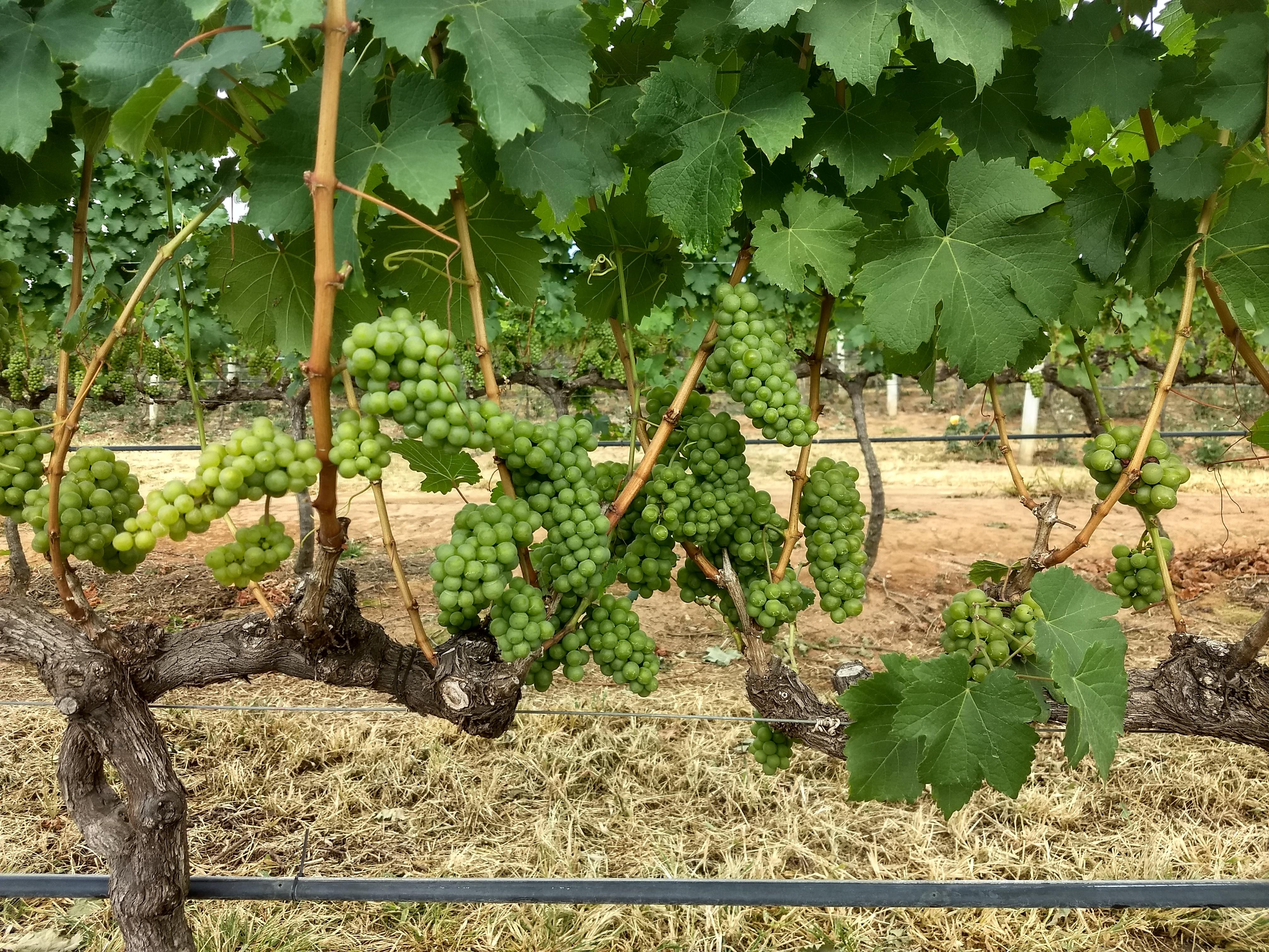leaf: (854, 152, 1076, 382), (635, 54, 811, 248), (361, 0, 592, 145), (893, 654, 1040, 815), (899, 44, 1068, 163), (1032, 566, 1127, 777), (498, 86, 638, 218), (336, 71, 462, 209), (574, 171, 683, 324), (1035, 3, 1165, 123), (790, 84, 916, 192), (207, 227, 313, 354), (78, 0, 197, 109), (839, 654, 924, 802), (753, 190, 865, 294), (250, 71, 320, 233), (1200, 180, 1268, 332), (1064, 163, 1151, 279), (797, 0, 906, 91), (0, 3, 61, 160), (908, 0, 1012, 92), (1197, 8, 1268, 141), (1122, 196, 1197, 298), (110, 68, 183, 160), (1149, 133, 1230, 201), (391, 439, 480, 494), (251, 0, 323, 39), (731, 0, 815, 30), (967, 559, 1009, 585), (182, 50, 197, 57), (886, 104, 892, 108), (348, 204, 351, 208), (353, 262, 356, 264), (883, 106, 886, 107), (1191, 225, 1192, 227), (310, 158, 310, 163)
